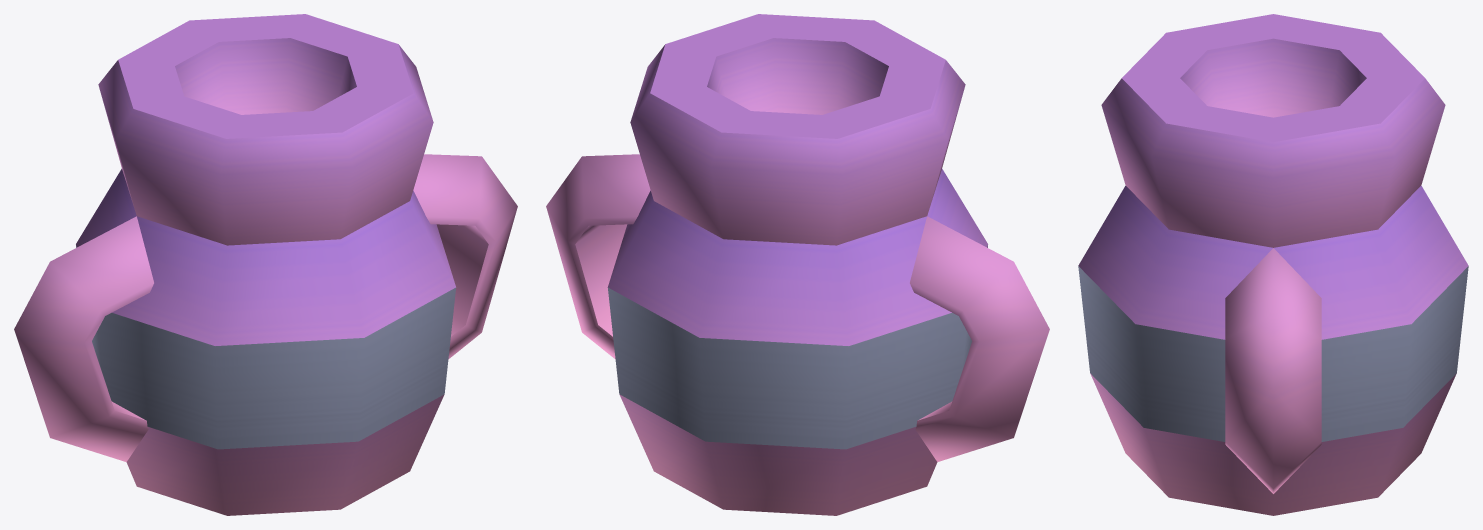
The model's file is pot.fbx.
3 views of the same model, side by side, from view 1: azimuth 30°, elevation 25°; view 2: azimuth 150°, elevation 25°; view 3: azimuth 270°, elevation 25° (orthographic).
Parts seen in each view (by area): view 1: pot; view 2: pot; view 3: pot.
Part boxes in pixels (x1,y1,x2,y2): pot: [14, 14, 517, 515]; pot: [546, 14, 1049, 515]; pot: [1078, 14, 1468, 515].
Size of the model in its own units: 59.96 by 43.05 by 40.59.
